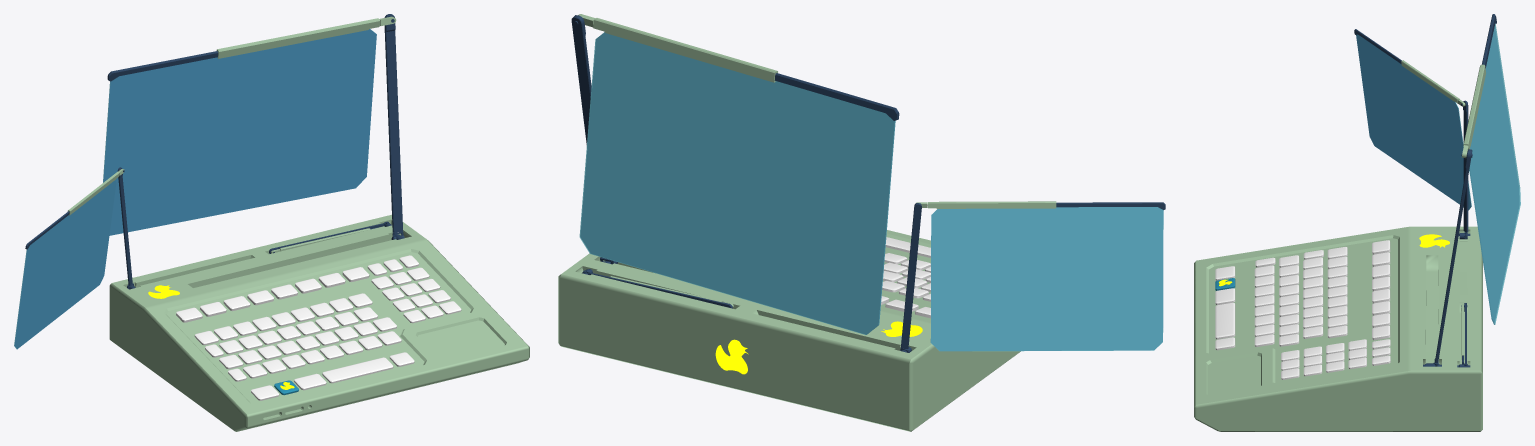
The model's file is Misc_Duckputer_B.fbx.
The picture shows the model from 3 angles, left to right: view 1: azimuth 30°, elevation 25°; view 2: azimuth 150°, elevation 25°; view 3: azimuth 270°, elevation 25°; orthographic projection. The views are drawn at different scales.
Parts seen in each view (by area): view 1: Misc_Duckputer_B.001; view 2: Misc_Duckputer_B.001; view 3: Misc_Duckputer_B.001.
Part boxes in pixels (x1,y1,x2,y2): Misc_Duckputer_B.001: (14,14,529,431); Misc_Duckputer_B.001: (558,14,1165,431); Misc_Duckputer_B.001: (1194,14,1520,431).
Bounding box in the file's own units: 0.5011 × 0.2922 × 0.3112.
